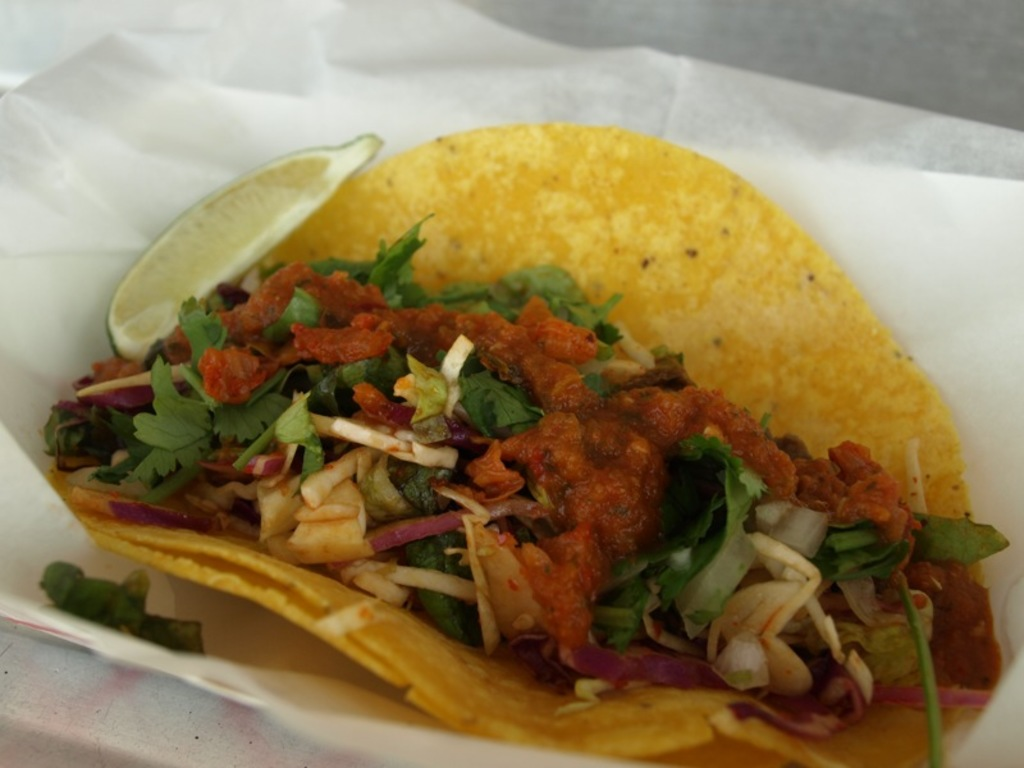taco: (45, 119, 1006, 767)
